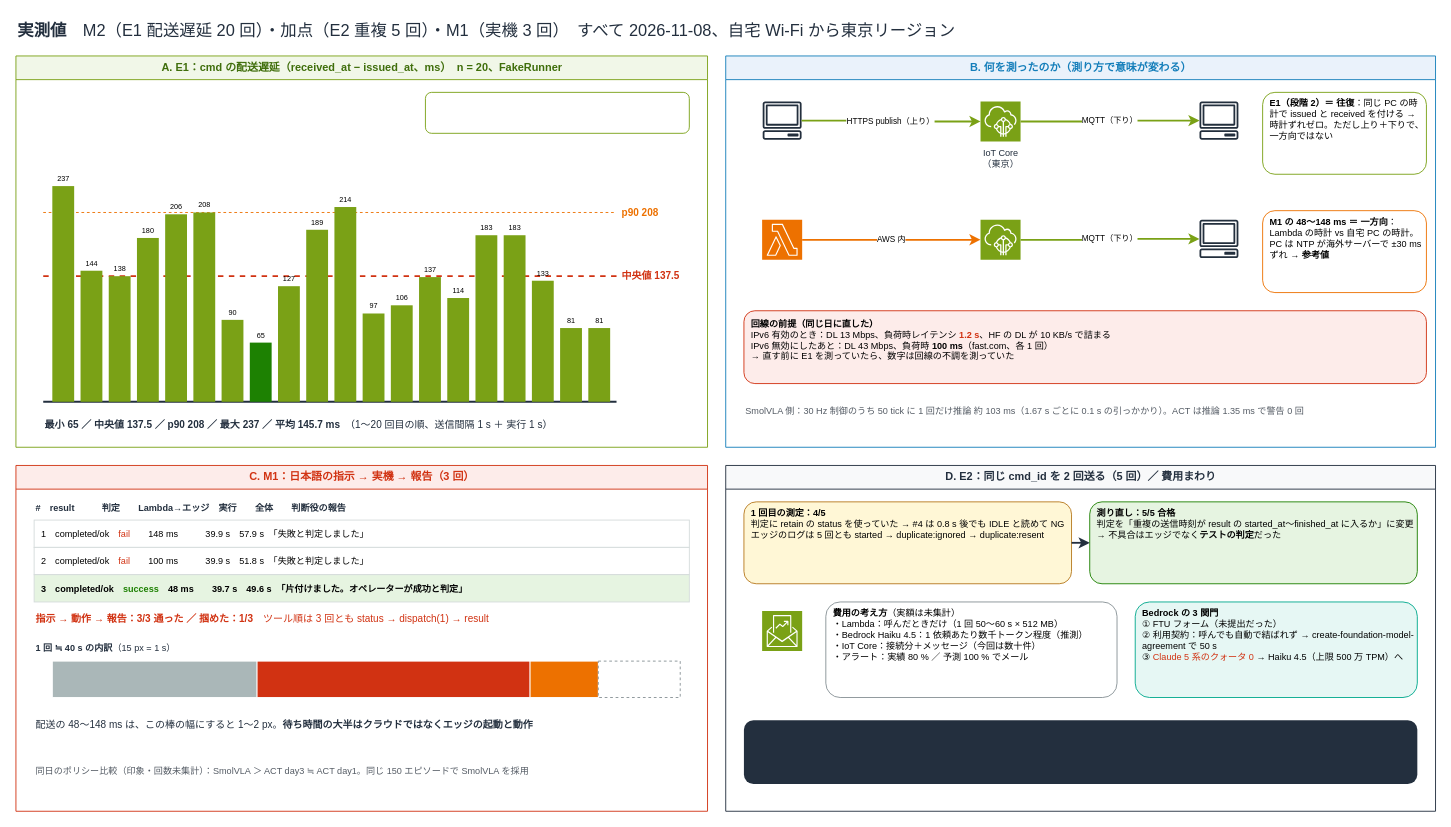
This 1451x827 diagram has some shape labels left out. Here are the shapes that lost their labels. From the top down, the centre of each, then its label:
At point 557,112: "条件：Wi-Fi 2.4 GHz・IPv6 無効・省電力オフ 送信 = send_cmd.py（boto3 iot-data publish）".
At point 782,120: "send_cmd.py （自宅 PC）".
At point 1218,120: "edge_agent （同じ PC）".
At point 781,239: "Lambda （東京）".
At point 1000,239: "IoT Core".
At point 1218,238: "edge_agent （自宅 PC）".
At point 781,630: "Budgets 月 20 USD".
At point 154,679: "起動 15 s モデル・カメラ・アーム".
At point 393,679: "動作 20 s（30 Hz・SmolVLA）".
At point 563,679: "後始末 5 s".
At point 638,679: "＋判定入力".
At point 1080,752: "数字は「何を、どの時計で、どの回線条件で」測ったかとセットで出す".
